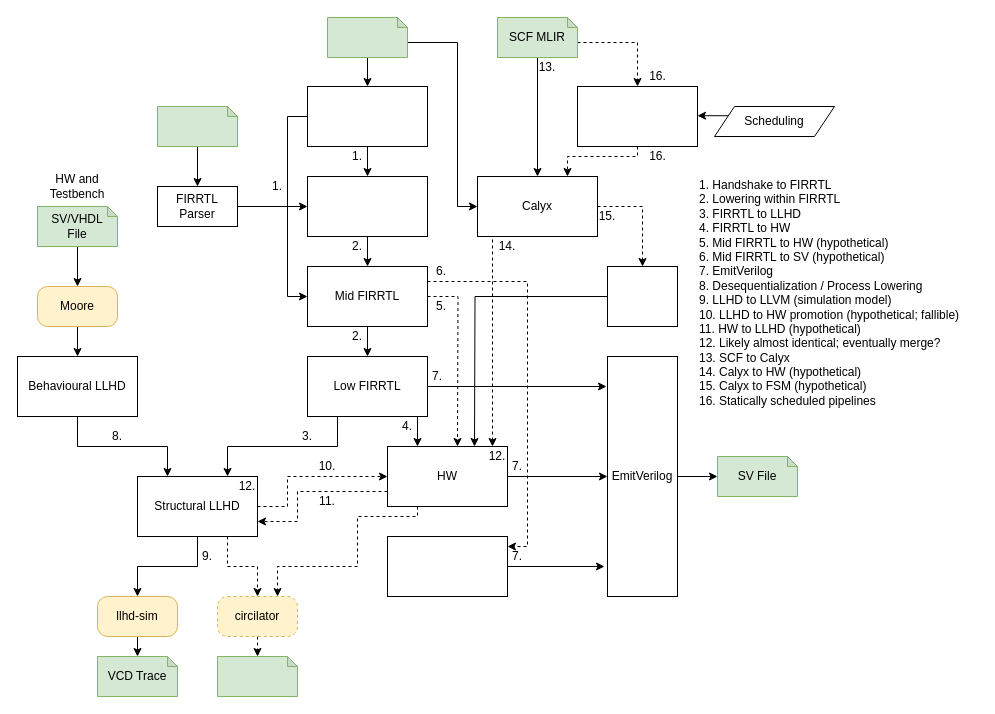
Image size: 995x714. Some labels were removed from this diagram. The shapes that lost their labels are listed below. From the top down, each one's centre as x and y in pixels, then its label:
At [367,37]: "std/arith MLIR".
At [197,126]: "FIR File".
At [367,116]: "Handshake".
At [637,116]: "Pipeline/Pipeline".
At [367,206]: "High FIRRTL".
At [642,296]: "FSM".
At [447,566]: "SV".
At [257,676]: "CPP File".
